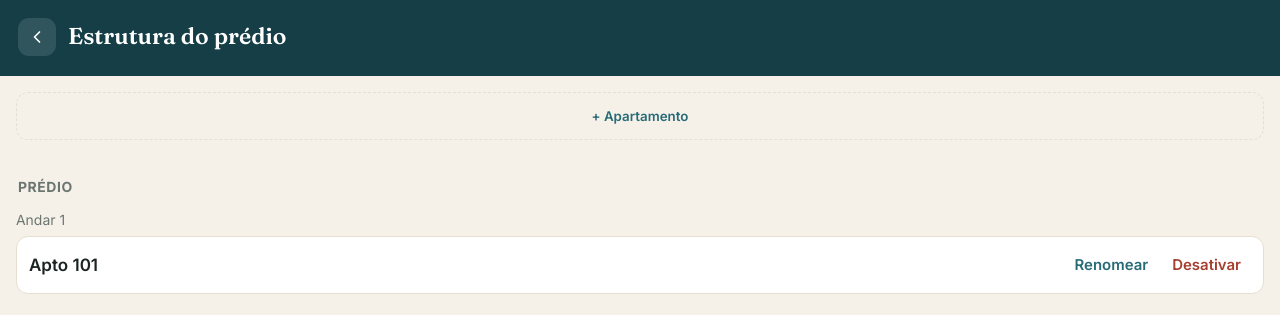
BuildingStructureScreen › renames an apartment
This screenshot has width=1280, height=315.
Click the button with aria-label "Renomear Apto 101" at point(1111, 265), box top-left (1064, 245), bottom-right (1158, 285)
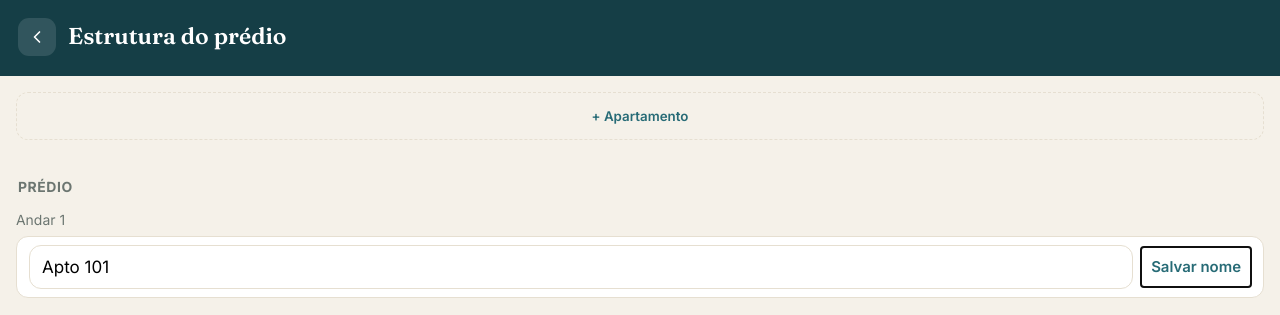
Replace the text in the field named "Novo nome" with "Apto 102" at point(581, 267), box top-left (29, 245), bottom-right (1133, 289)
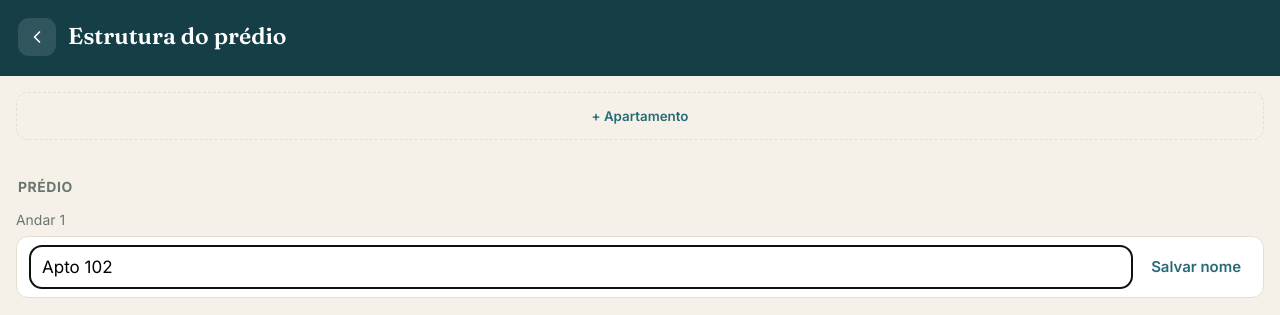
Click the button "Salvar nome" at point(1196, 267), box top-left (1141, 247), bottom-right (1251, 287)
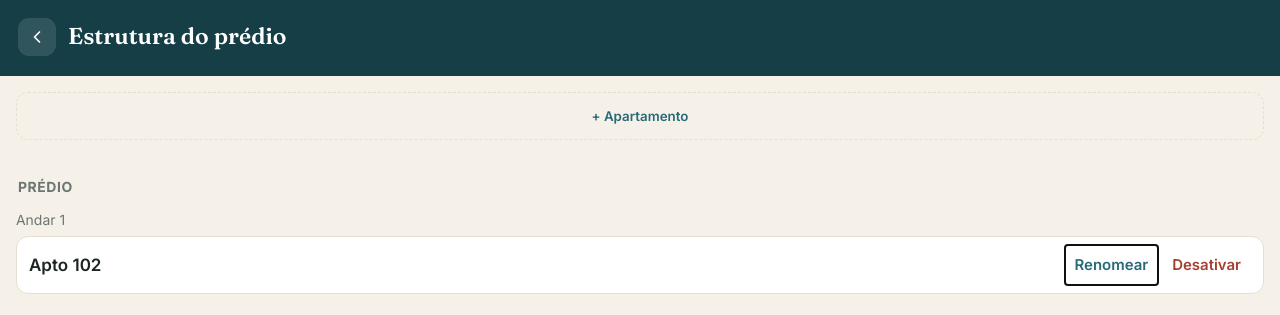
Expected: the text "Apto 101" is not shown
Now the text "Apto 102" is shown, box top-left (29, 255), bottom-right (102, 275)
